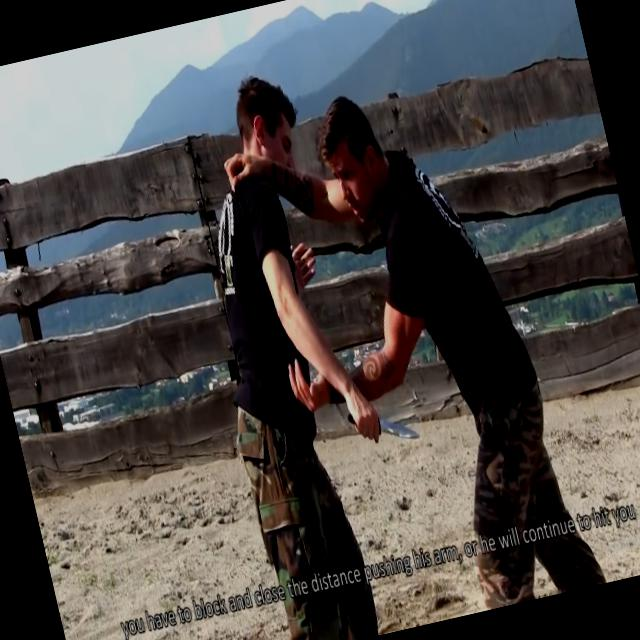knife: (339, 386, 426, 460)
